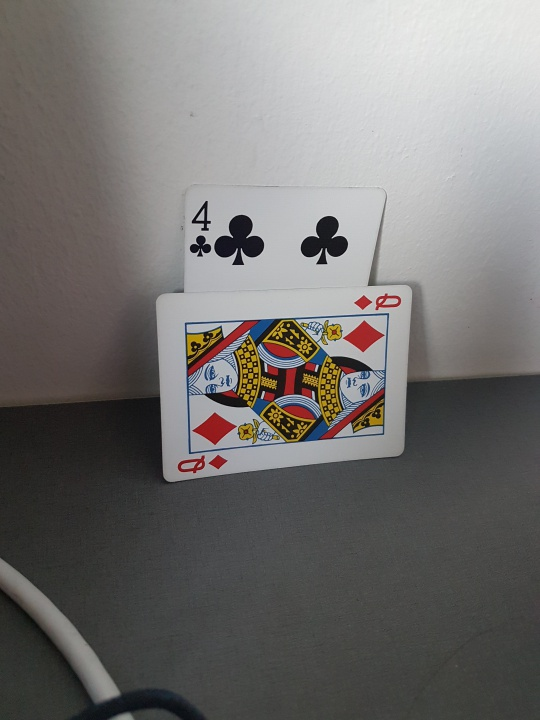4: (182, 182, 388, 287)
queen: (151, 288, 414, 482)
